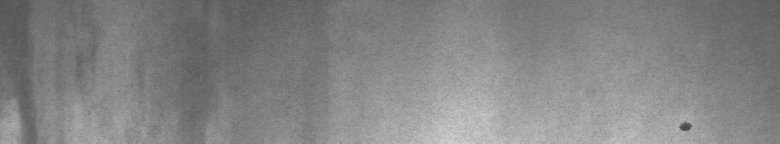fi: (675, 115, 700, 136)
